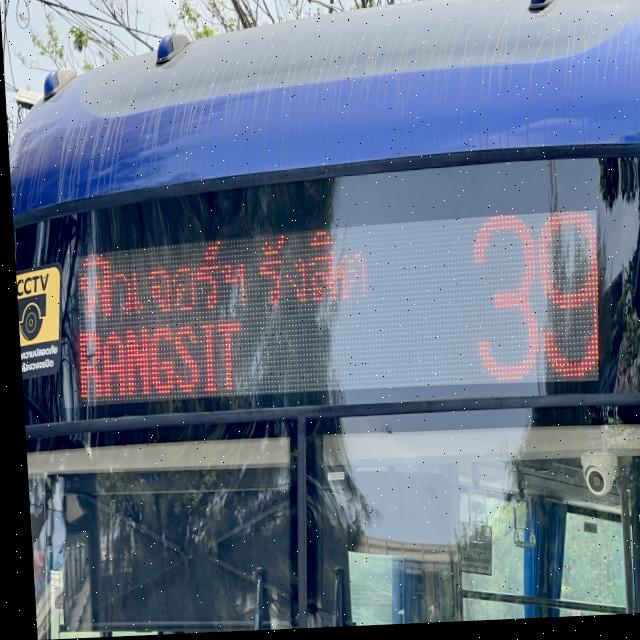Bus-Line-Number: (440, 198, 625, 419)
Destination-Sign-Normal: (66, 220, 385, 421)
TSB-Bus: (0, 0, 640, 640)
